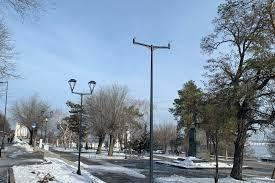Animal: (131, 35, 184, 183), (66, 72, 98, 177), (36, 100, 55, 146)
